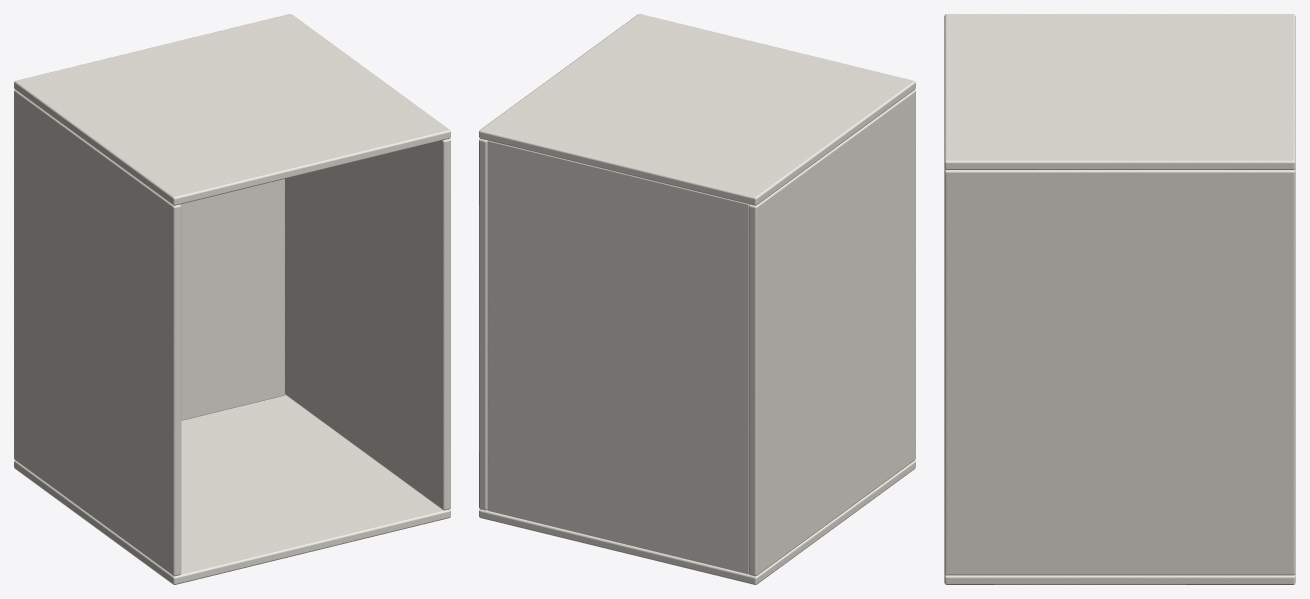
File: metod-base-mobile.glb
3 views of the same model, side by side, from view 1: azimuth 30°, elevation 25°; view 2: azimuth 150°, elevation 25°; view 3: azimuth 270°, elevation 25° (orthographic). The views are drawn at different scales.
Parts seen in each view (by area): view 1: METOD Base cabinet frame; view 2: METOD Base cabinet frame; view 3: METOD Base cabinet frame.
Part boxes in pixels (left/top/right/bottom): METOD Base cabinet frame: left=14, top=14, right=450, bottom=584; METOD Base cabinet frame: left=479, top=14, right=915, bottom=584; METOD Base cabinet frame: left=944, top=14, right=1295, bottom=584.
Size of the model in its own units: 0.6 by 0.8 by 0.6.
1 material, 1 textured.
